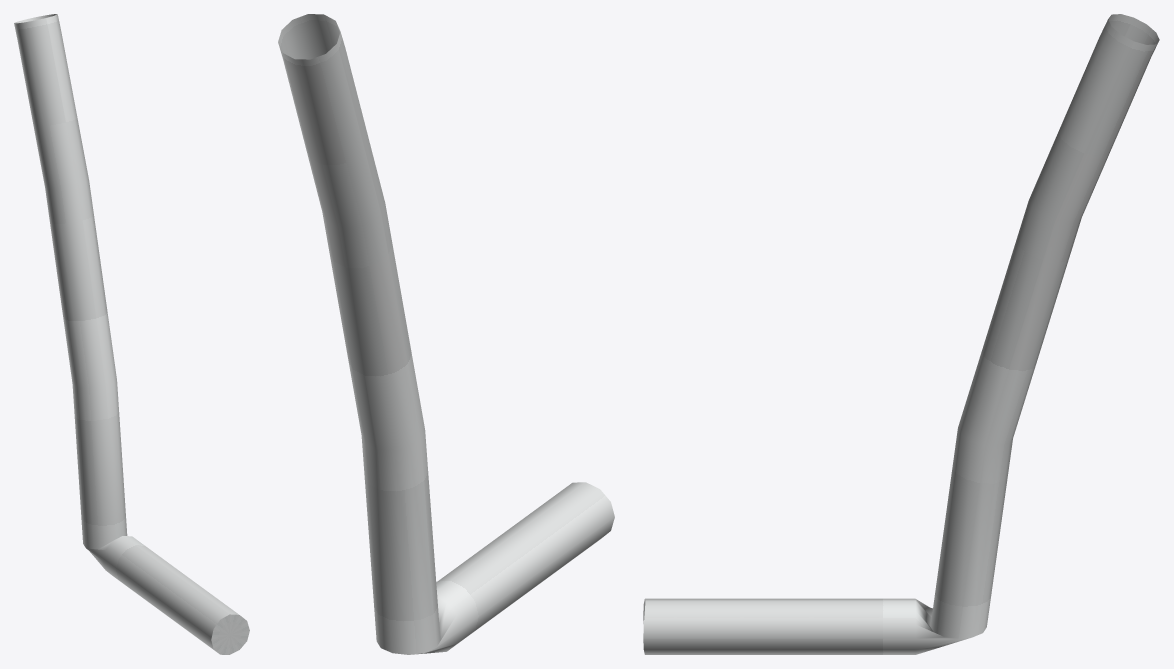
The model's file is luminairearm_laupsweep8ft_c1_pedestal.obj.
3 views of the same model, side by side, from view 1: azimuth 30°, elevation 25°; view 2: azimuth 150°, elevation 25°; view 3: azimuth 270°, elevation 25° (orthographic). The views are drawn at different scales.
Parts seen in each view (by area): view 1: luminairearm_laupsweep8ft_c1_pedestal; view 2: luminairearm_laupsweep8ft_c1_pedestal; view 3: luminairearm_laupsweep8ft_c1_pedestal.
Part boxes in pixels (box(x1,y1,x2,y2)): luminairearm_laupsweep8ft_c1_pedestal: box(14, 14, 249, 654); luminairearm_laupsweep8ft_c1_pedestal: box(278, 14, 614, 654); luminairearm_laupsweep8ft_c1_pedestal: box(643, 14, 1159, 654).
Bounding box in the file's own units: 0.0562 × 0.6971 × 0.5152.
